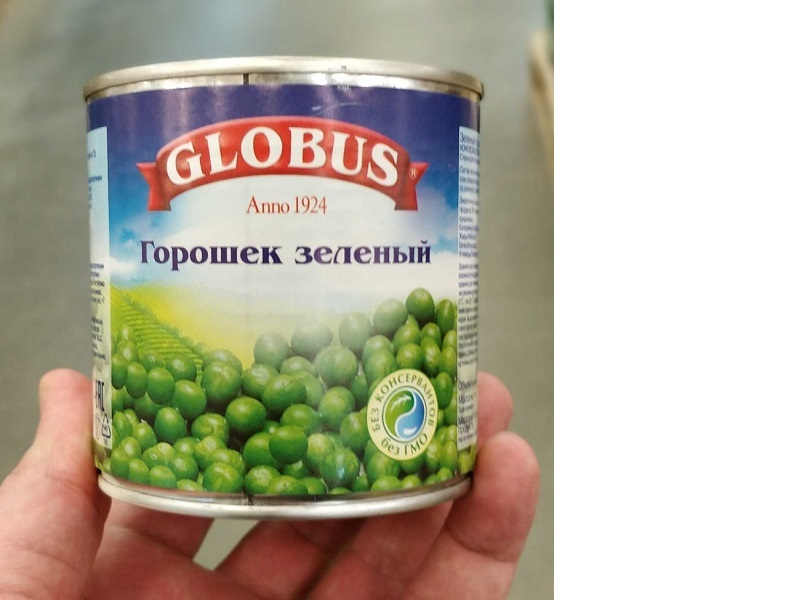peas: (46, 49, 532, 520)
